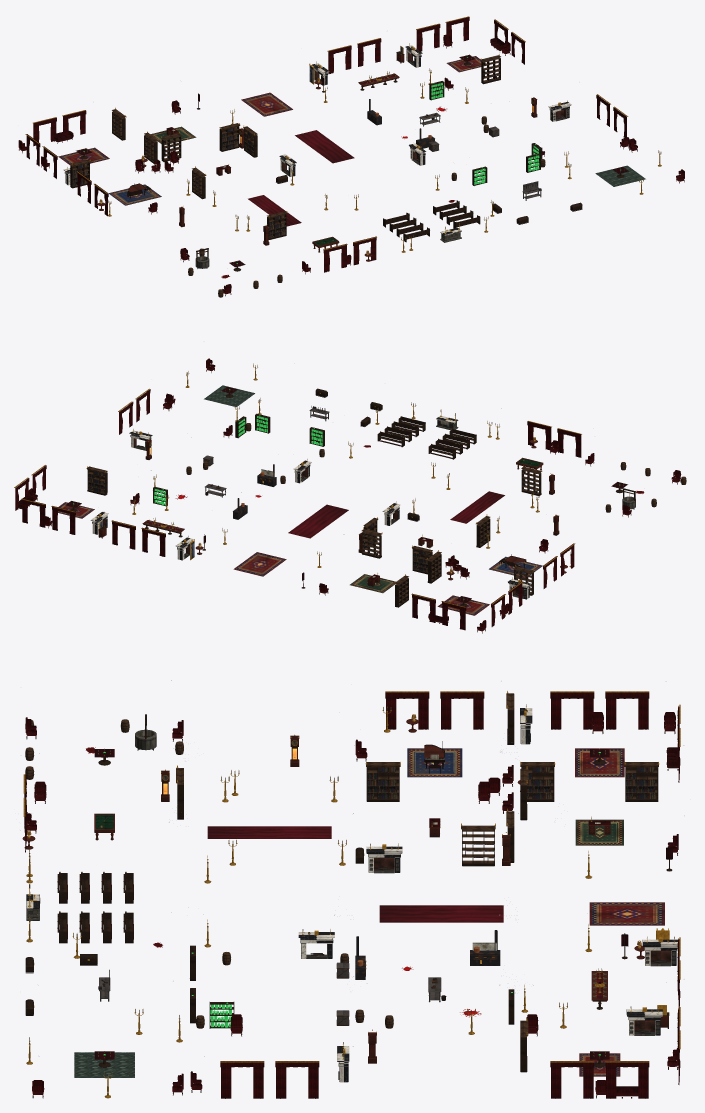
File: manor_furn_g.glb
3 renders of one model, top to bottom at view 1: azimuth 30°, elevation 25°; view 2: azimuth 150°, elevation 25°; view 3: azimuth 270°, elevation 25°, orthographic. The views are drawn at different scales.
Visible parts, largest first — view 1: manor_furn_g; view 2: manor_furn_g; view 3: manor_furn_g.
Boxes of the visible parts, bbox=[...] form: manor_furn_g: bbox=[18, 16, 684, 297]; manor_furn_g: bbox=[14, 358, 686, 633]; manor_furn_g: bbox=[19, 680, 684, 1098].
Bounding box in the file's own units: 65.12 × 5.55 × 49.22.
Materials: 50 (49 with a texture image).
